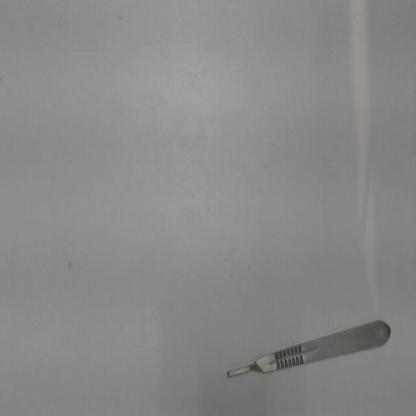No.3 BP Handle: (219, 314, 393, 384)
